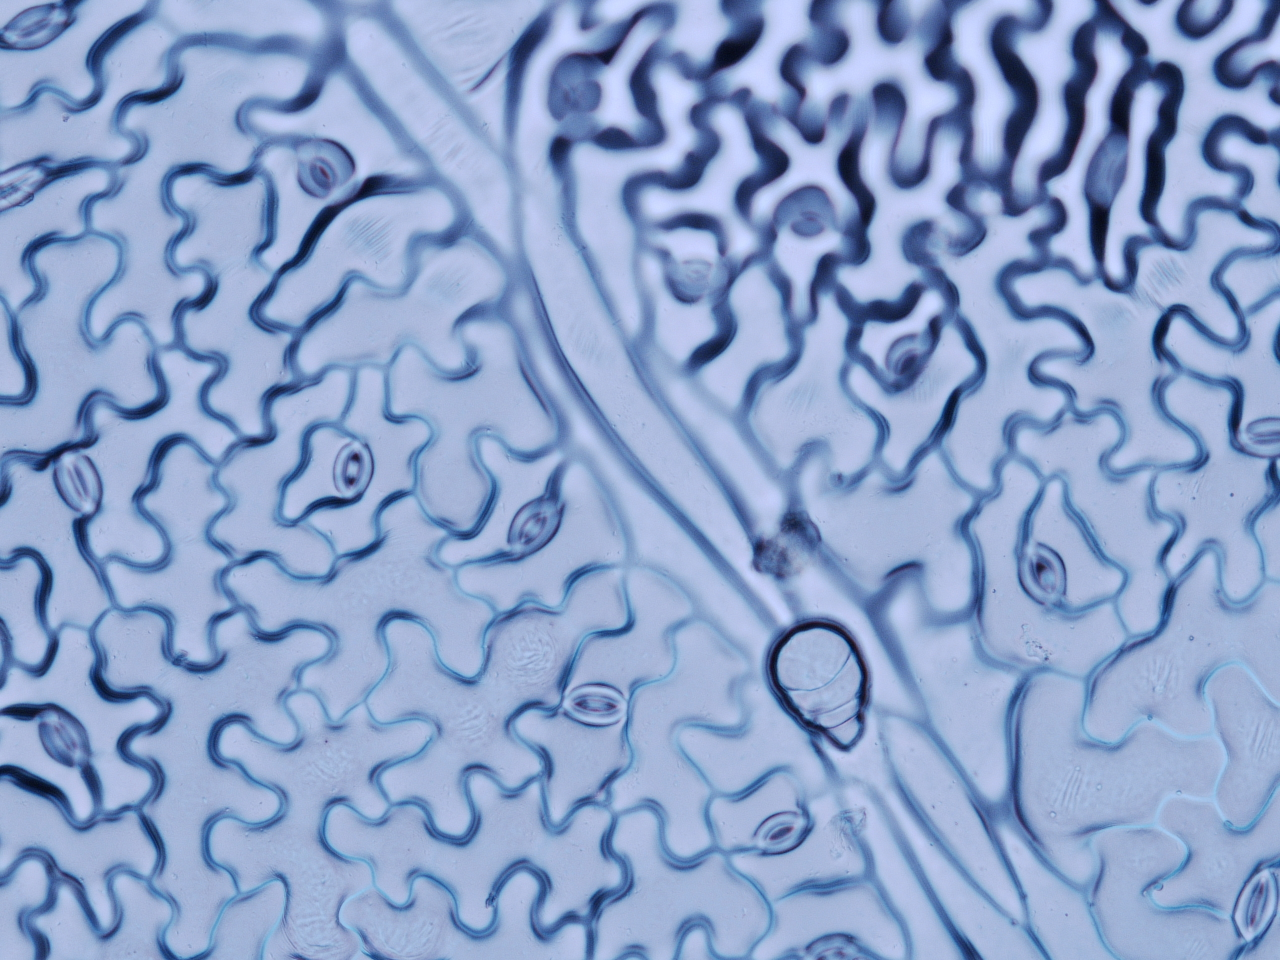estoma: (1226, 856, 1275, 948), (1016, 535, 1070, 608), (38, 710, 95, 768), (557, 682, 632, 723), (748, 806, 811, 853), (507, 494, 557, 554), (882, 333, 932, 390), (335, 433, 374, 504), (51, 455, 100, 511), (1, 5, 67, 45), (1234, 410, 1280, 464), (1, 162, 48, 204), (297, 151, 339, 196), (801, 937, 858, 960)
